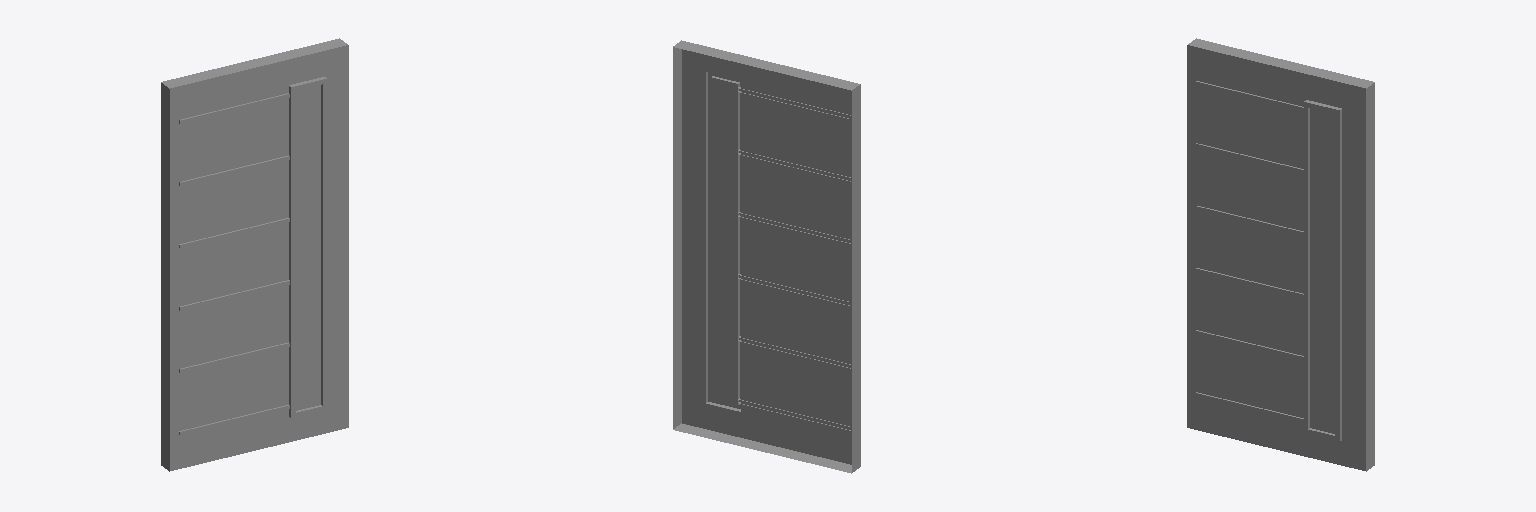
The model's file is Door_Window2.obj.
3 views of the same model, side by side, from view 1: azimuth 30°, elevation 25°; view 2: azimuth 150°, elevation 25°; view 3: azimuth 330°, elevation 25° (orthographic).
Visible parts, largest first — view 1: Door_Window2_Cube.173; view 2: Door_Window2_Cube.173; view 3: Door_Window2_Cube.173.
Part boxes in pixels (x1,y1,x2,y2): Door_Window2_Cube.173: (161,38,348,471); Door_Window2_Cube.173: (673,40,860,473); Door_Window2_Cube.173: (1187,38,1374,471).
Size of the model in its own units: 0.4437 by 0.9066 by 0.0496.